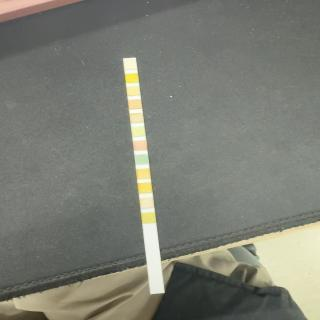mark: (141, 212, 155, 224), (134, 140, 147, 151), (138, 183, 152, 193), (140, 198, 153, 208), (137, 168, 150, 178), (130, 113, 143, 123), (136, 154, 148, 164), (133, 126, 145, 136), (129, 99, 141, 109), (128, 86, 140, 96), (126, 73, 138, 83), (124, 60, 137, 69)
